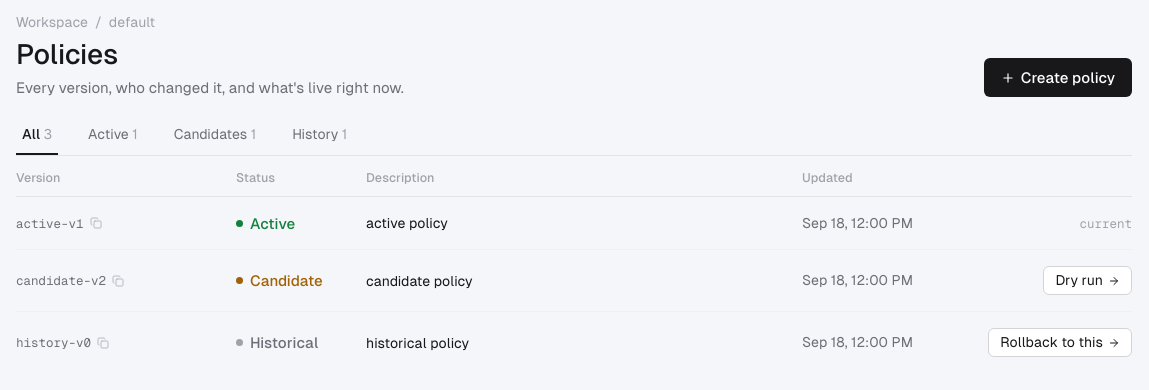
it: PoliciesListPage › filters policy rows when All, Active, Candidates, and History are clicked
Check: the text "active policy" is shown, box x1=366 y1=196 x2=802 y2=250
Check: the text "candidate policy" is shown, box x1=366 y1=250 x2=802 y2=312
What coordinates should you click on to do the following:
click the button "Active 1"
I would click on:
 (113, 140)
Its box is x1=82 y1=125 x2=144 y2=155.
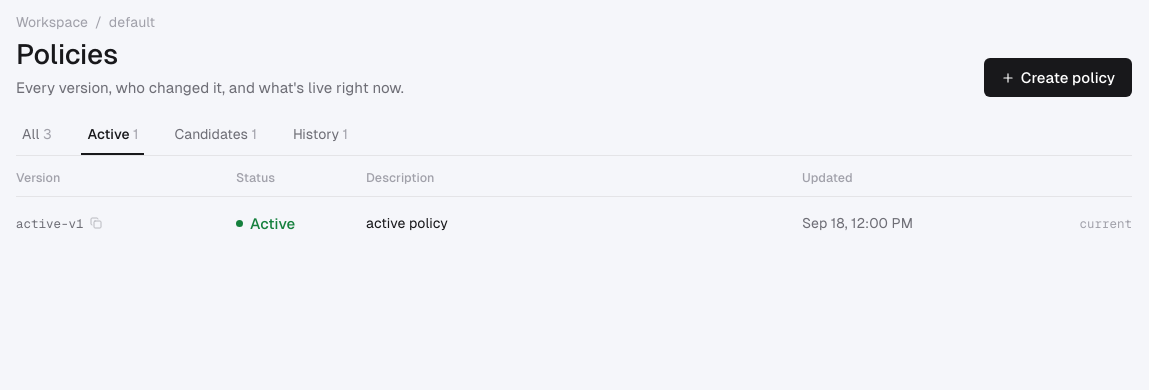
Check: the text "active policy" is shown, box x1=366 y1=196 x2=802 y2=249
Check: the text "candidate policy" is gone
What coordinates should you click on to do the following:
click the button "Candidates 1"
I would click on:
 (216, 140)
Its box is x1=168 y1=125 x2=263 y2=155.
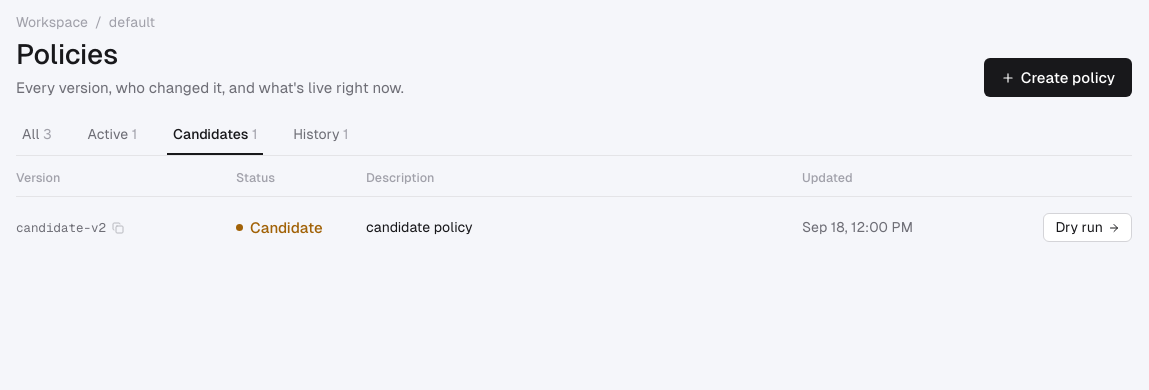
Check: the text "candidate policy" is shown, box x1=366 y1=196 x2=802 y2=258
Check: the text "active policy" is gone
What coordinates should you click on to do the following:
click the button "History 1"
I would click on:
 (321, 140)
Its box is x1=287 y1=125 x2=354 y2=155.
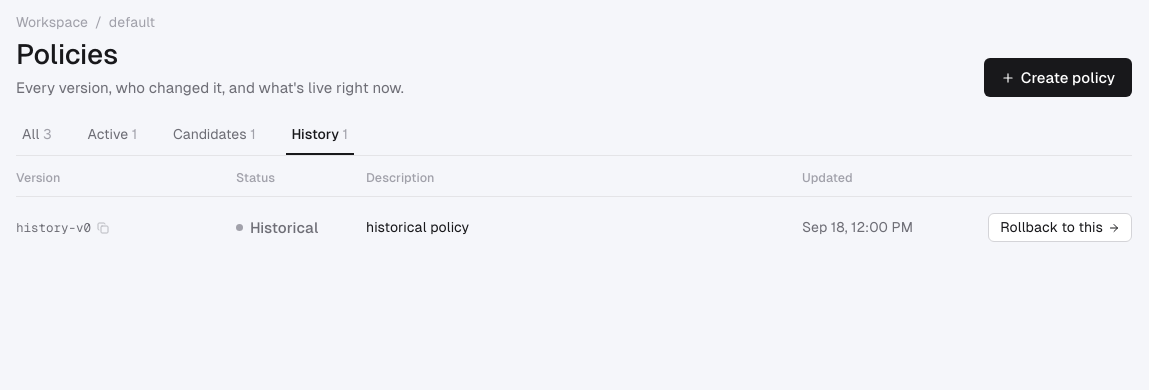
Check: the text "historical policy" is shown, box x1=366 y1=196 x2=802 y2=258
Check: the text "candidate policy" is gone
